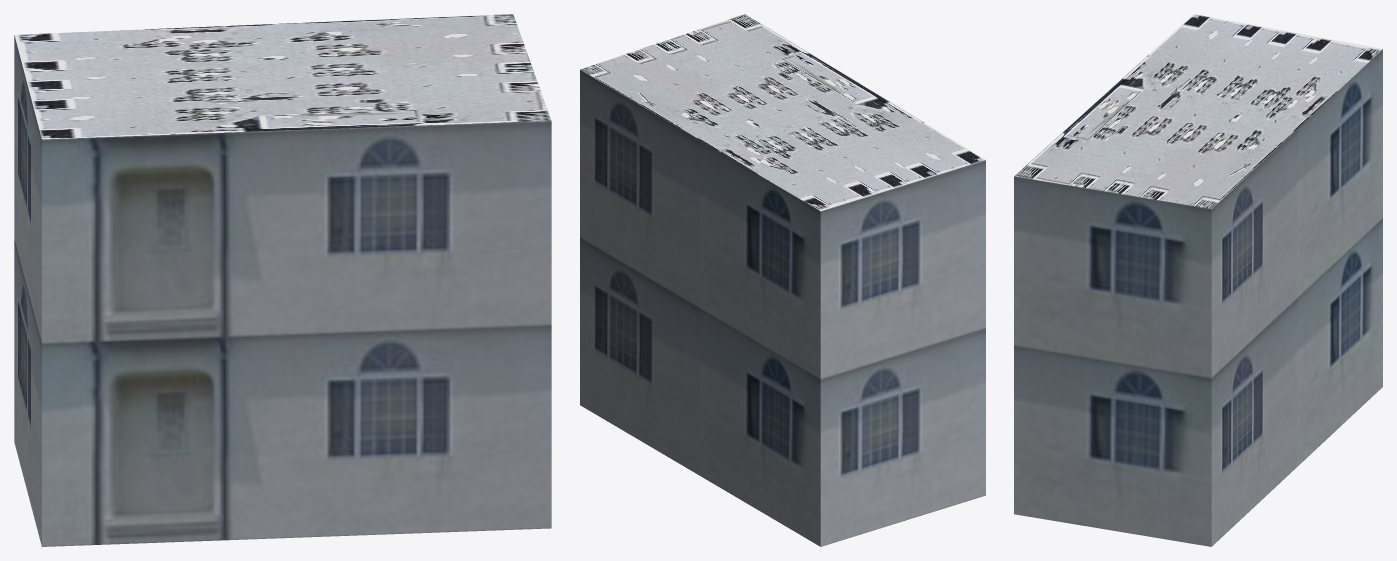
The model's file is ResTex__2059.fbx.
The picture shows the model from 3 angles, left to right: view 1: azimuth 30°, elevation 25°; view 2: azimuth 150°, elevation 25°; view 3: azimuth 270°, elevation 25°; orthographic projection. The views are drawn at different scales.
Parts seen in each view (by area): view 1: CityEngineMaterial_17_m, CityEngineMaterial_m; view 2: CityEngineMaterial_17_m, CityEngineMaterial_m; view 3: CityEngineMaterial_17_m, CityEngineMaterial_m.
Boxes of the visible parts, x1=… form: CityEngineMaterial_17_m: x1=14, y1=35, x2=551, y2=546; CityEngineMaterial_m: x1=14, y1=14, x2=551, y2=139; CityEngineMaterial_17_m: x1=580, y1=70, x2=985, y2=546; CityEngineMaterial_m: x1=580, y1=14, x2=985, y2=211; CityEngineMaterial_17_m: x1=1014, y1=49, x2=1382, y2=546; CityEngineMaterial_m: x1=1014, y1=14, x2=1382, y2=208.
Bounding box in the file's own units: 7.43 × 6 × 5.94.
2 materials, 2 textured.
